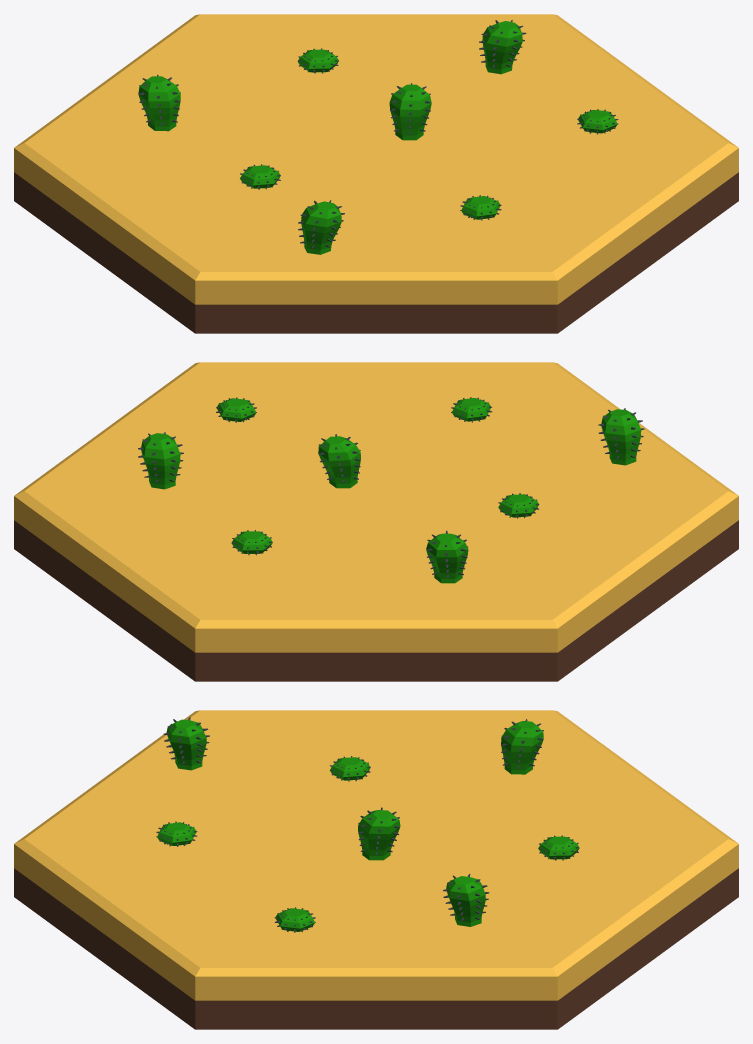
Rendered from dessert2.obj.
3 renders of one model, top to bottom at view 1: azimuth 30°, elevation 25°; view 2: azimuth 150°, elevation 25°; view 3: azimuth 270°, elevation 25°, orthographic.
Parts seen in each view (by area): view 1: Desert_Tile, Cactus_1.001, Cactus_1.002, Cactus_1, Cactus_1.003, Cactus_0.001, Cactus_0, Cactus_0.003, Cactus_0.002; view 2: Desert_Tile, Cactus_1.003, Cactus_1, Cactus_1.001, Cactus_1.002, Cactus_0.001, Cactus_0, Cactus_0.002, Cactus_0.003; view 3: Desert_Tile, Cactus_1.002, Cactus_1.001, Cactus_1, Cactus_1.003, Cactus_0.001, Cactus_0, Cactus_0.002, Cactus_0.003.
Boxes of the visible parts, box(x1,y1,x2,y2) form: Desert_Tile: box(14, 14, 738, 333); Cactus_1.001: box(389, 83, 431, 140); Cactus_1.002: box(138, 74, 180, 131); Cactus_1: box(298, 200, 344, 254); Cactus_1.003: box(479, 20, 526, 74); Cactus_0.001: box(240, 164, 280, 189); Cactus_0: box(297, 48, 338, 73); Cactus_0.003: box(577, 109, 618, 134); Cactus_0.002: box(460, 195, 501, 220); Desert_Tile: box(14, 362, 738, 681); Cactus_1.003: box(138, 432, 183, 489); Cactus_1: box(598, 408, 644, 465); Cactus_1.001: box(318, 434, 360, 488); Cactus_1.002: box(426, 530, 468, 583); Cactus_0.001: box(498, 493, 539, 518); Cactus_0: box(231, 530, 272, 555); Cactus_0.002: box(451, 397, 492, 422); Cactus_0.003: box(216, 397, 256, 422); Desert_Tile: box(14, 710, 738, 1029); Cactus_1.002: box(501, 719, 543, 774); Cactus_1.001: box(358, 807, 400, 860); Cactus_1: box(163, 717, 209, 770); Cactus_1.003: box(443, 874, 489, 926); Cactus_0.001: box(329, 756, 370, 781); Cactus_0: box(538, 835, 579, 860); Cactus_0.002: box(156, 821, 197, 846); Cactus_0.003: box(274, 907, 315, 932).
Bounding box in the file's own units: 1.7 × 0.3052 × 1.96.
1 material, 1 textured.
